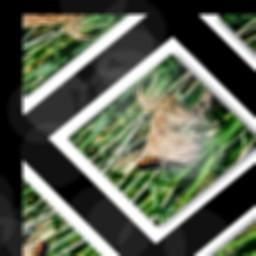Swallow: (131, 137, 194, 193)
